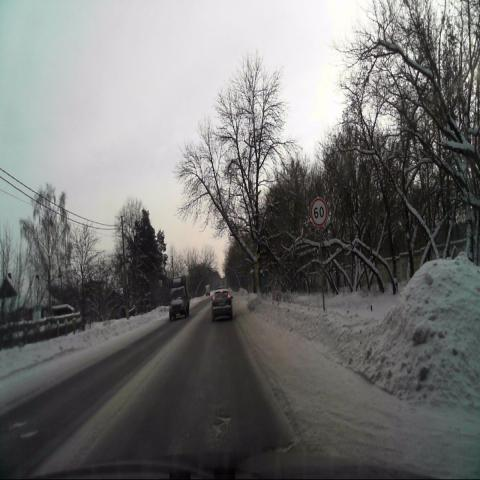3_24: (312, 198, 328, 226)
